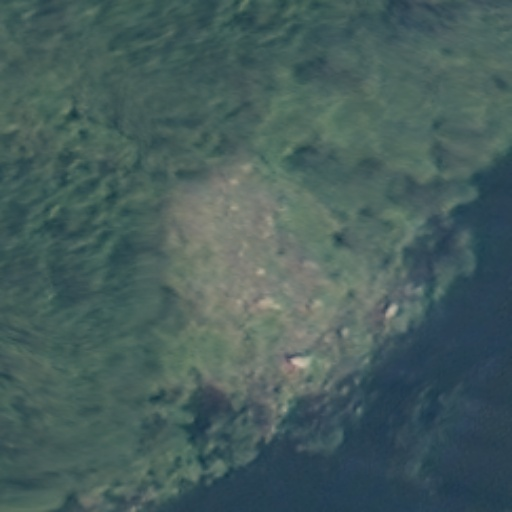landslide: (164, 164, 324, 320)
